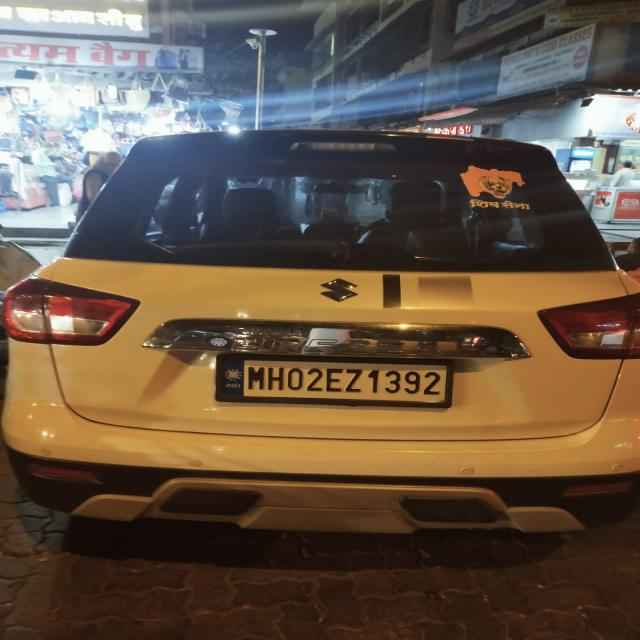Number-Plate: (218, 358, 450, 404)
